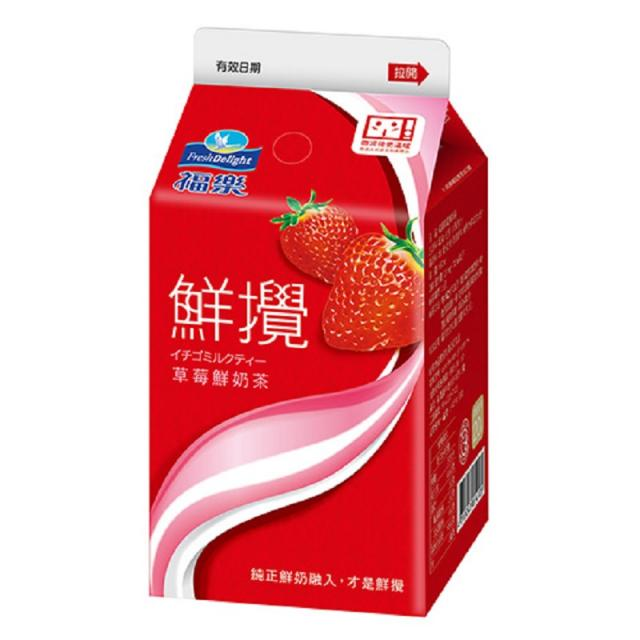non_white_jug: (131, 15, 507, 633)
